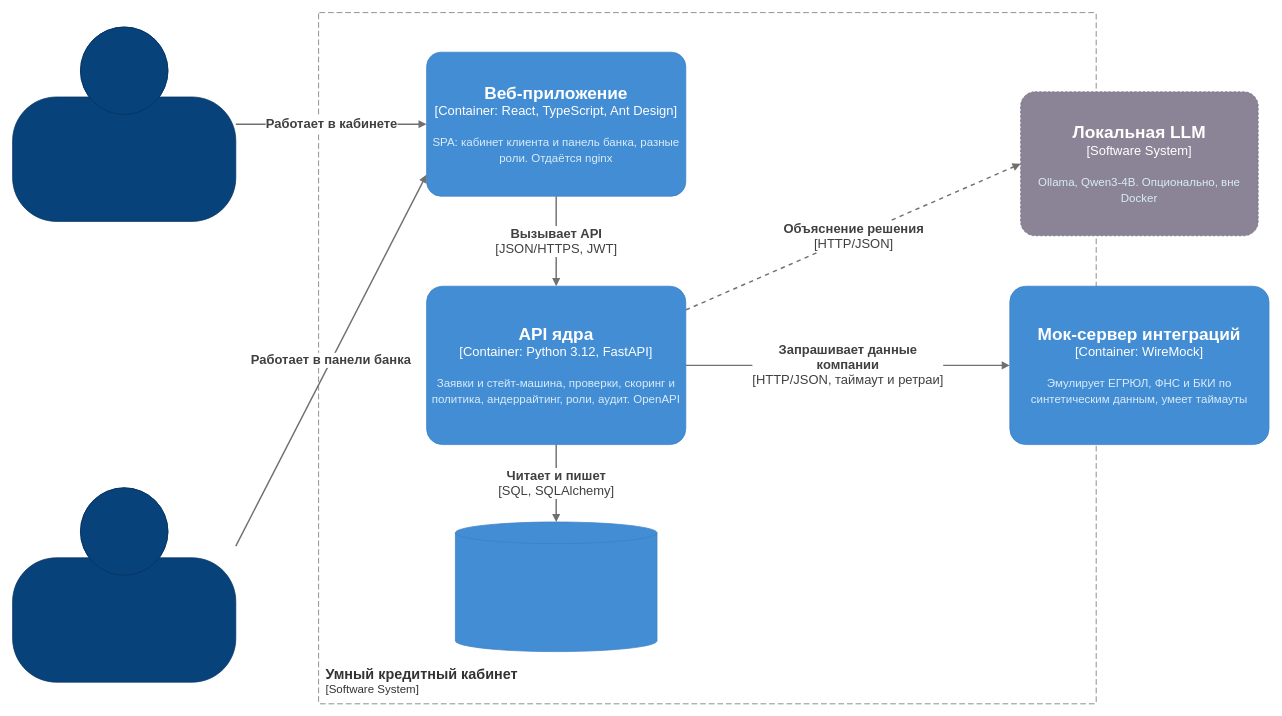
Image size: 1282x716. Some labels were removed from this diagram. The shapes that lost their labels are listed below. From the top down, each one's centre as x and y in pixels, then its label:
the point at 124,123: Клиент-предприниматель [Person] Подаёт заявку, принимает оффер
the point at 124,584: Андеррайтер банка [Person] Ручное решение по заявкам
the point at 556,586: База данных [Container: PostgreSQL 16] Заявки, решения, аудит. Миграции Alembic
